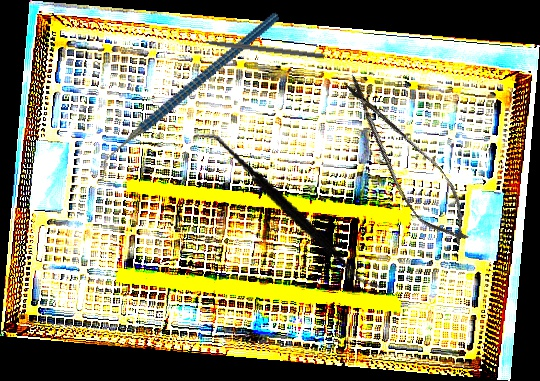Chopper: (66, 11, 311, 182)
Hook Surgical: (183, 35, 325, 60)
Micro Scissor: (326, 64, 485, 258)
Spatula Surgical: (171, 130, 406, 293)
